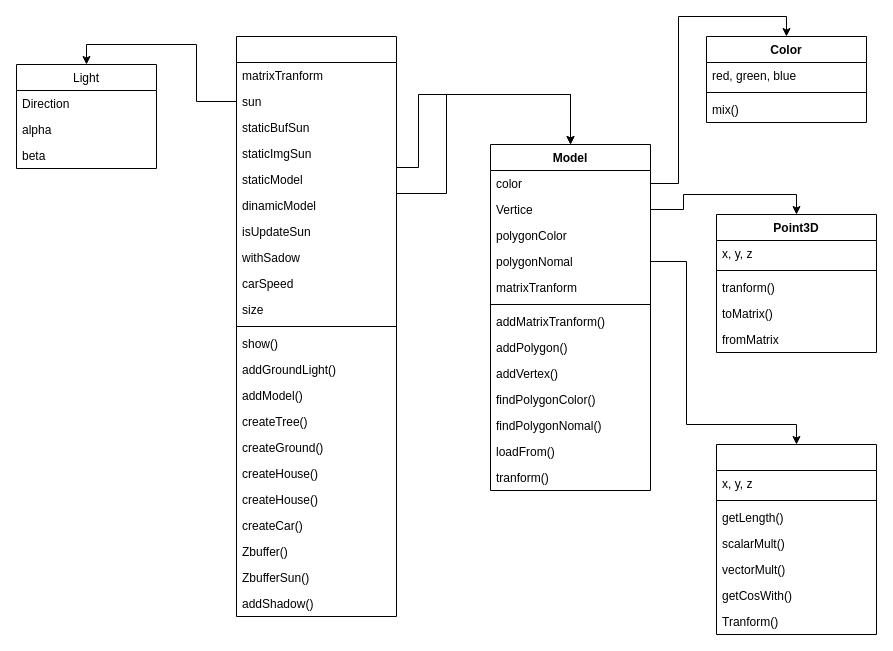
The diagram is 893 pixels wide and 651 high, and some of its shapes have lost their labels. Each missing label, with the box of its shape:
Scene: (236, 36, 396, 616)
Vector3D: (716, 444, 876, 634)
